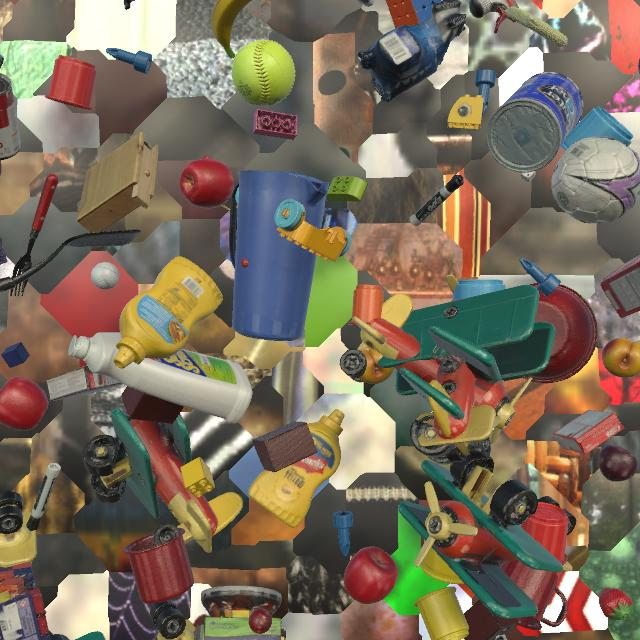ycb_002_master_chef_can: (486, 72, 583, 173)
ycb_003_cracker_box: (600, 255, 640, 318)
ycb_005_tomato_soup_can: (0, 73, 21, 160)
ycb_006_mustard_bottle: (113, 256, 223, 369), (248, 409, 345, 528)
ycb_007_tuna_fish_can: (0, 55, 4, 69), (638, 59, 640, 74)
ycb_008_pudding_box: (46, 365, 123, 401)
ycb_009_gelatin_box: (552, 410, 624, 455)
ycb_011_banana: (211, 0, 252, 58)
ycb_012_strawberry: (599, 587, 633, 620)
ycb_013_apple: (344, 547, 398, 604), (180, 159, 234, 208), (0, 377, 48, 431)
ycb_015_peach: (602, 338, 640, 378), (358, 348, 394, 384)
ycb_018_plum: (598, 444, 638, 482)
